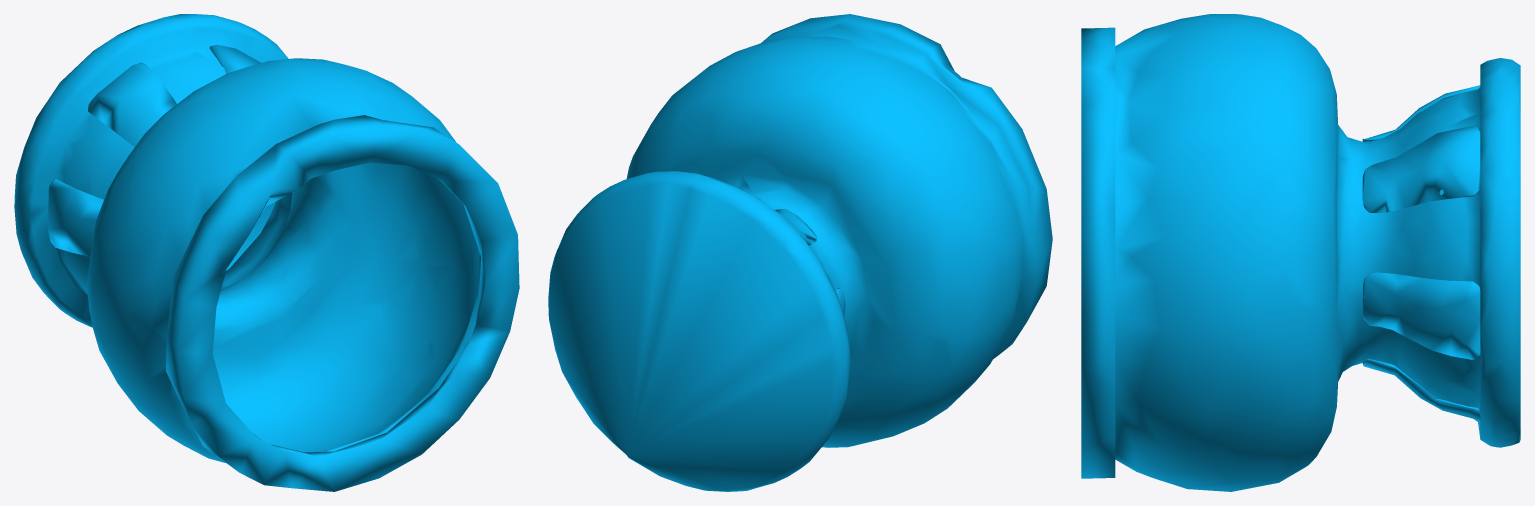
File: cup-metalblue_1.gltf
The picture shows the model from 3 angles, left to right: view 1: azimuth 30°, elevation 25°; view 2: azimuth 150°, elevation 25°; view 3: azimuth 270°, elevation 25°; orthographic projection. The views are drawn at different scales.
Visible parts, largest first — view 1: Node; view 2: Node; view 3: Node.
Part boxes in pixels (<box>): Node: <box>14,14,519,491</box>; Node: <box>548,14,1052,491</box>; Node: <box>1081,14,1520,491</box>.
Size of the model in its own units: 0.848 by 0.8473 by 0.7801.
